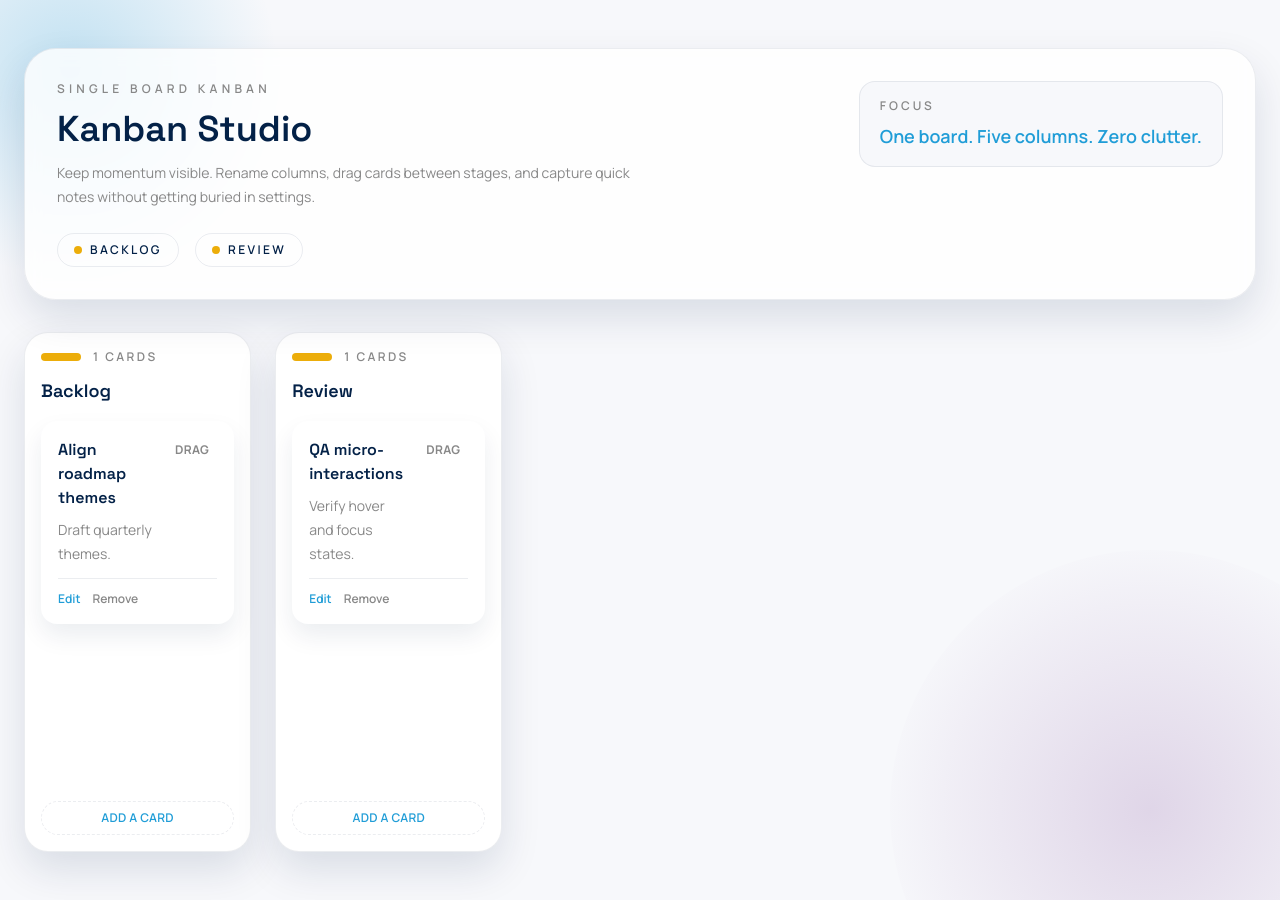
Test: KanbanBoard › persists a column rename after editing finishes
The width and height of the screenshot is (1280, 900).
expect the heading "Kanban Studio" is shown: met, box [57,106,312,152]
Replace the text in the 1st field named "Column title" with "Ideas". click: (138, 391)
box: [41,377,234,405]
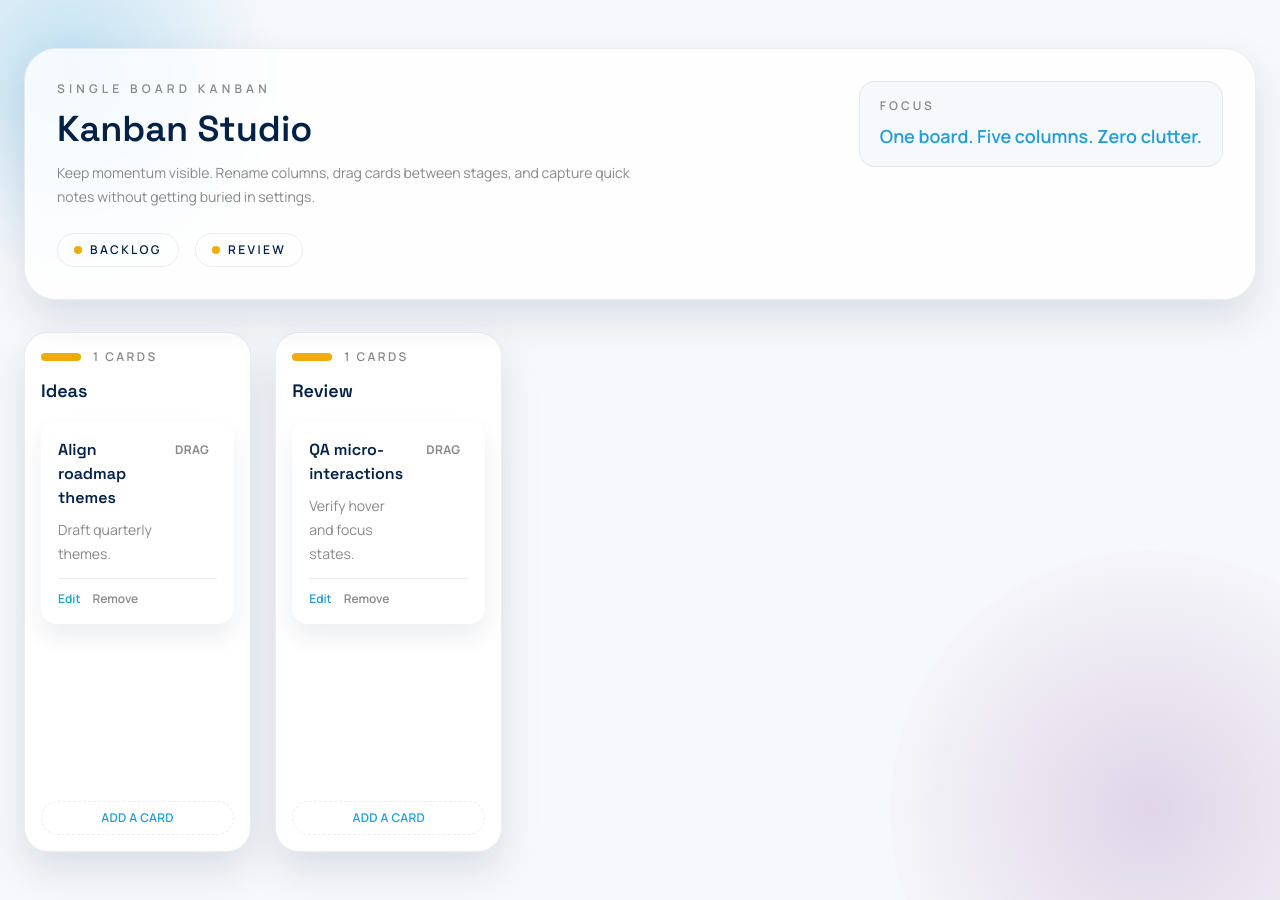
Press Tab
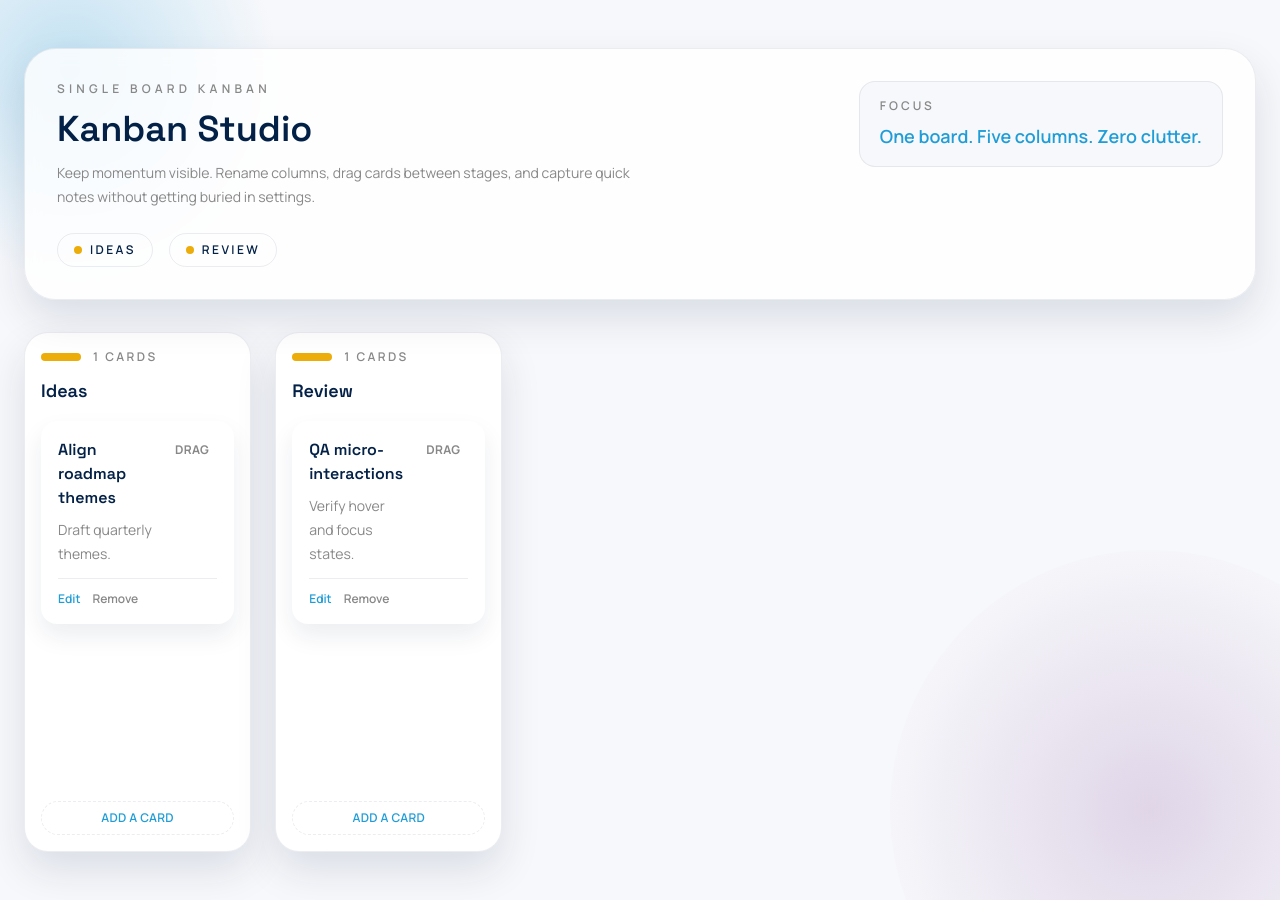
expect the text "Ideas" is shown: met, box [57,233,153,267]
